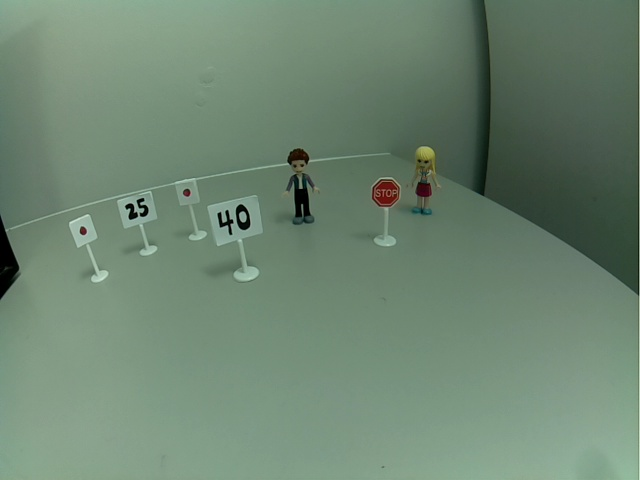people: (281, 146, 323, 228), (403, 136, 442, 218)
red light: (172, 177, 201, 207), (71, 216, 99, 247)
speed 25: (117, 196, 158, 226)
speed 40: (207, 193, 266, 244)
stop: (369, 172, 403, 211)
